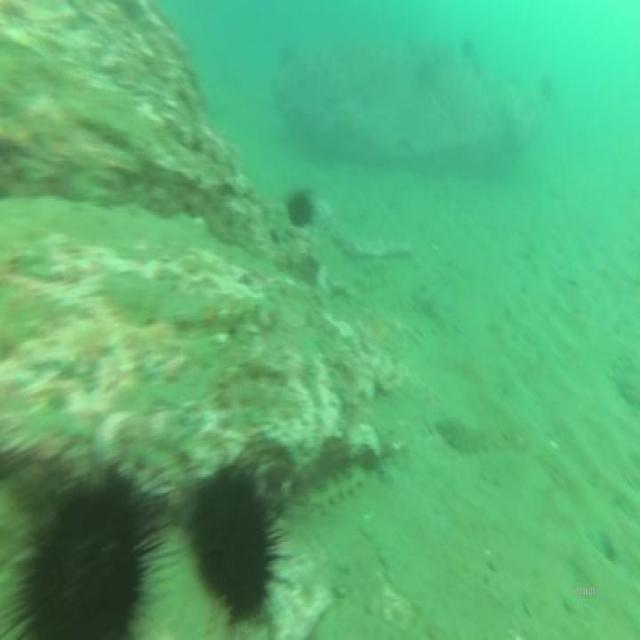echinus: (11, 449, 172, 640), (183, 430, 293, 634), (285, 180, 314, 232)
